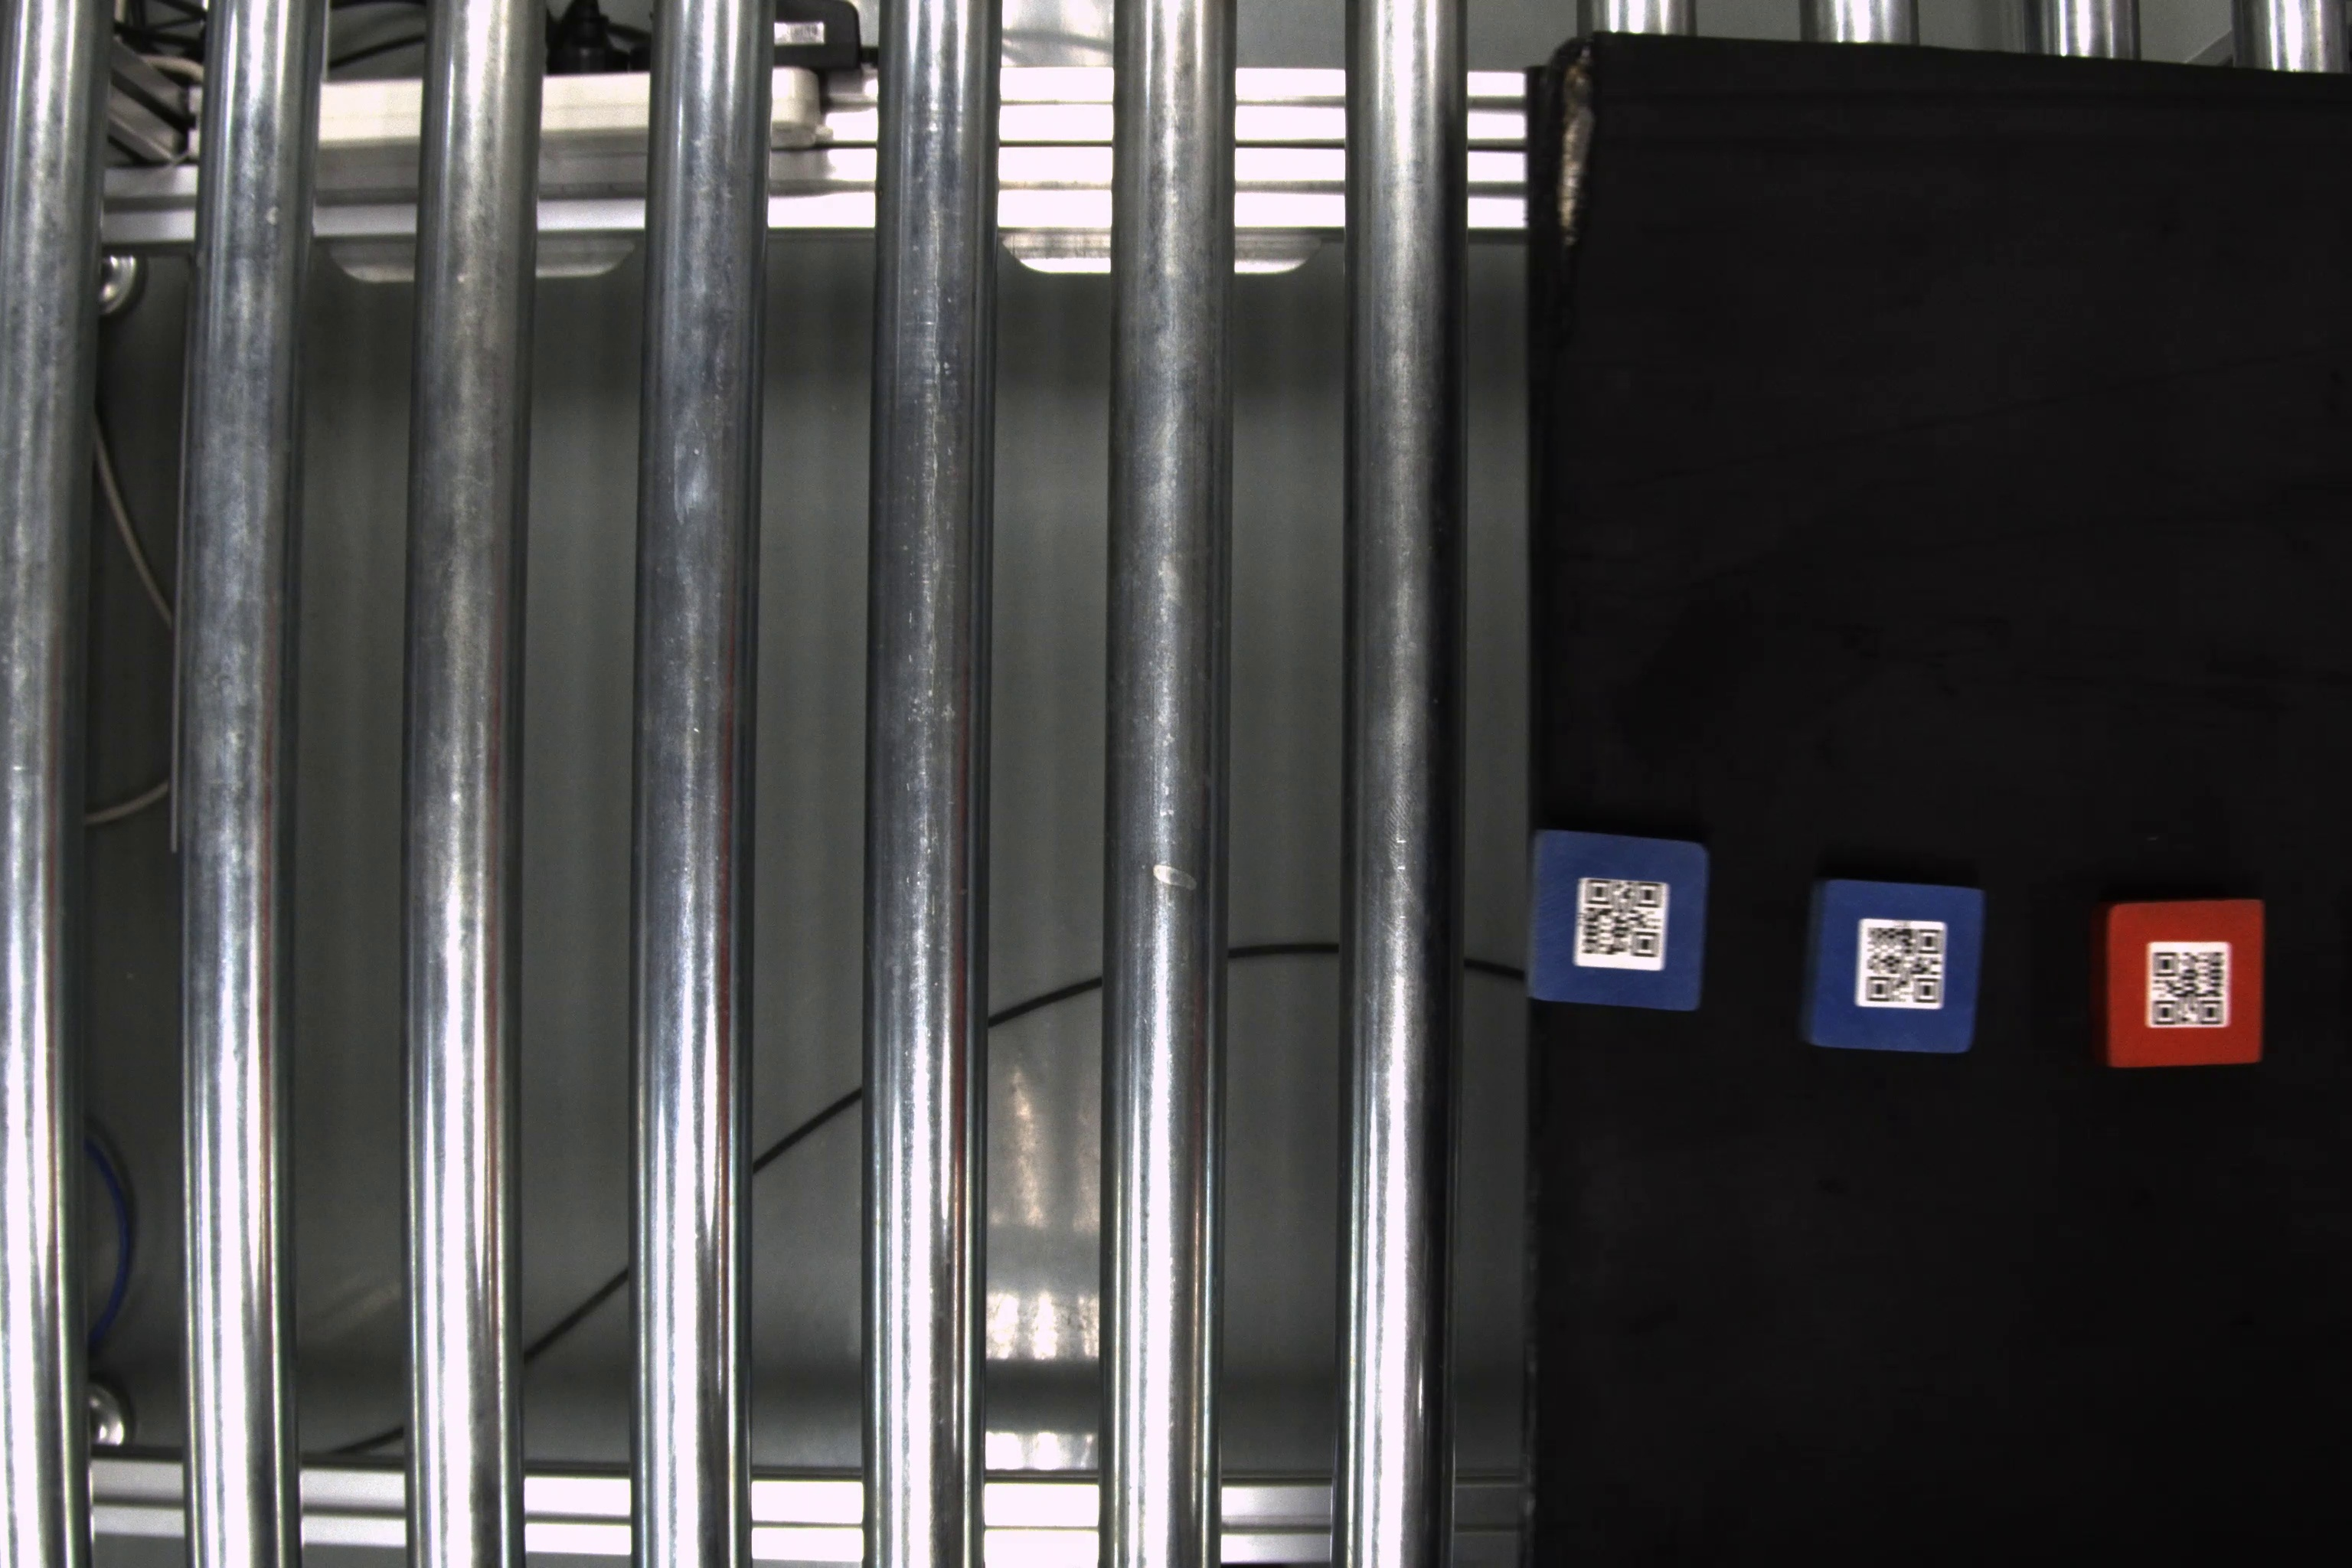wood: (1526, 826, 1711, 1017), (1802, 877, 1984, 1057), (2091, 889, 2270, 1071)
